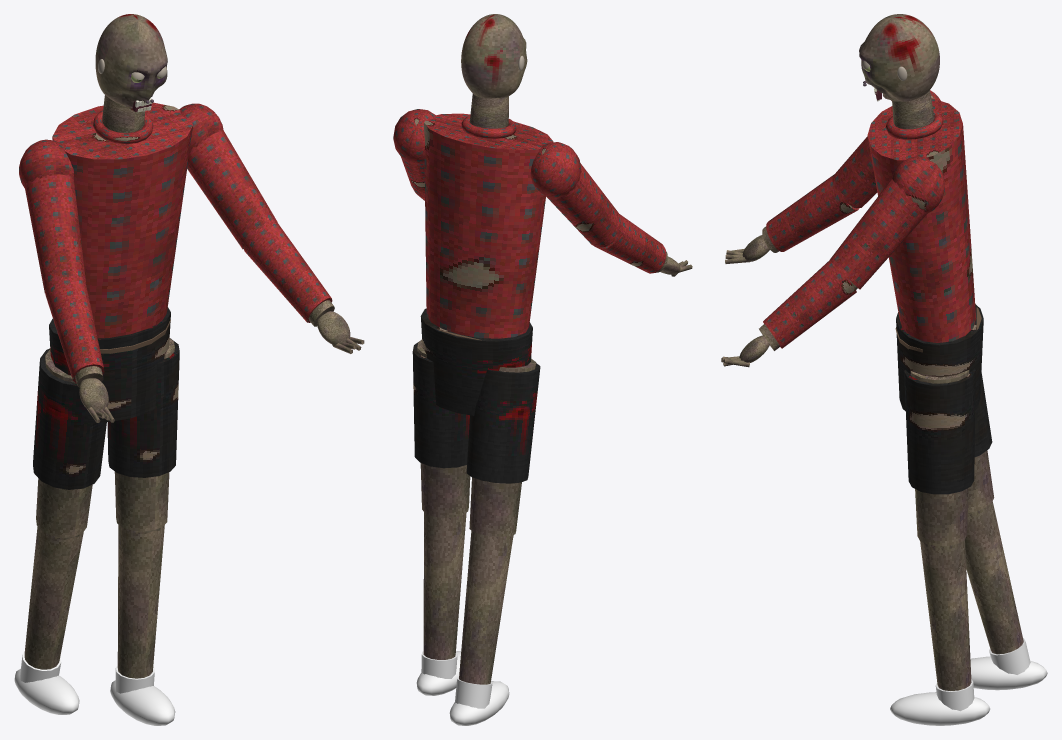
The model's file is Zombie_035.glb.
The picture shows the model from 3 angles, left to right: view 1: azimuth 30°, elevation 25°; view 2: azimuth 150°, elevation 25°; view 3: azimuth 270°, elevation 25°; orthographic projection. The views are drawn at different scales.
Parts seen in each view (by area): view 1: Zombie_035, object 18, object 12, object 4, object 13, object 5; view 2: Zombie_035, object 18, object 4; view 3: Zombie_035, object 18, object 12, object 4.
Boxes of the visible parts, <box> form: Zombie_035: <box>14,95,277,725</box>; object 18: <box>95,14,167,110</box>; object 12: <box>243,222,332,322</box>; object 4: <box>45,279,104,382</box>; object 13: <box>317,311,350,344</box>; object 5: <box>79,378,108,411</box>; Zombie_035: <box>393,93,622,725</box>; object 18: <box>461,14,527,98</box>; object 4: <box>594,214,666,273</box>; Zombie_035: <box>830,90,1047,725</box>; object 18: <box>859,14,939,101</box>; object 12: <box>763,260,856,348</box>; object 4: <box>766,174,859,251</box>.
Size of the model in its own units: 0.7633 by 1.98 by 0.8446.
Materials: 15 (5 with a texture image).
